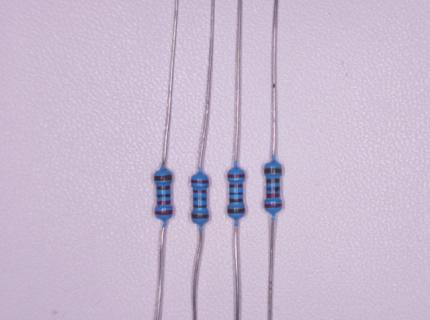Black band: (266, 187, 280, 191), (193, 197, 206, 201), (157, 194, 170, 197), (229, 192, 243, 194)
Brown band: (154, 175, 171, 181), (264, 168, 281, 173), (266, 178, 280, 183), (228, 209, 245, 213), (192, 214, 208, 218), (156, 186, 170, 190), (230, 199, 243, 202), (194, 205, 206, 208)
Red band: (155, 210, 172, 215), (264, 204, 282, 208), (157, 200, 171, 205), (266, 193, 280, 198), (228, 174, 245, 178), (191, 180, 208, 183), (193, 190, 207, 193), (229, 184, 243, 187)
